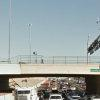Bridge: (7, 48, 96, 90)
